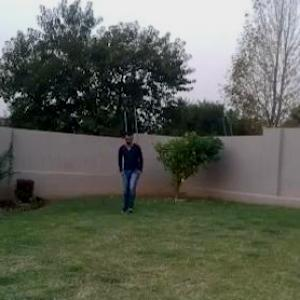follow: (114, 125, 144, 217)
